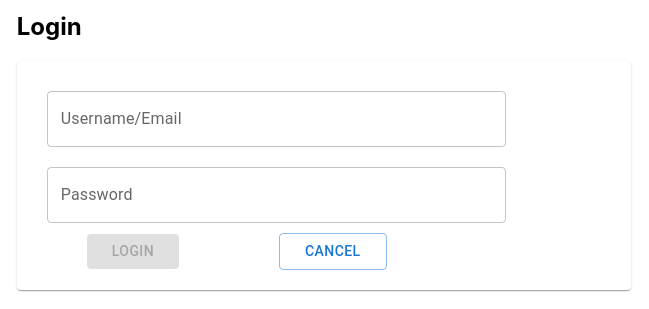
Test: login component with cancel action
Type "niranjan" into the field labelled "Username/Email" at (277, 119), box [47, 91, 506, 147]
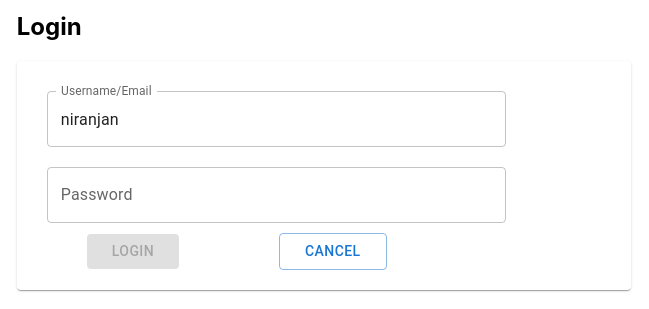
Type "niranjan" into the field labelled "Password" at (277, 195), box [47, 167, 506, 223]
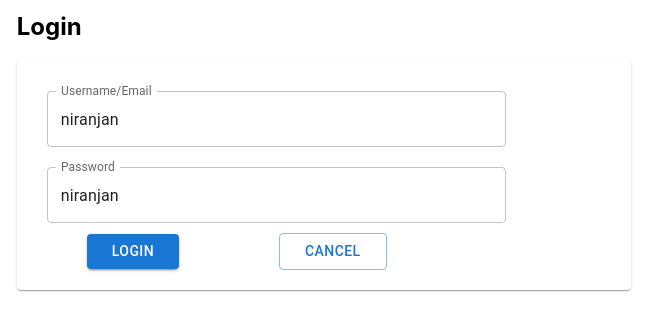
Click the button with test id "cancel" at (333, 251), box [279, 233, 386, 270]
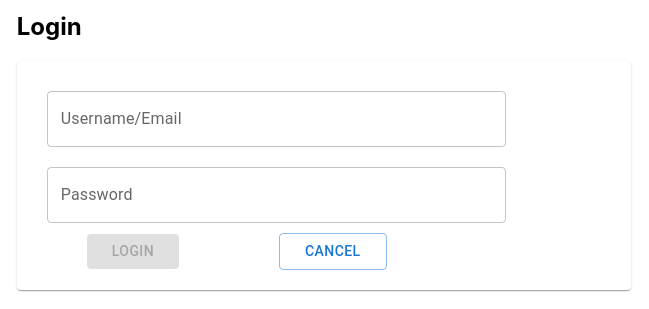
Now the field labelled "Password" is empty, box [47, 167, 506, 223]
Now the field labelled "Username/Email" is empty, box [47, 91, 506, 147]
